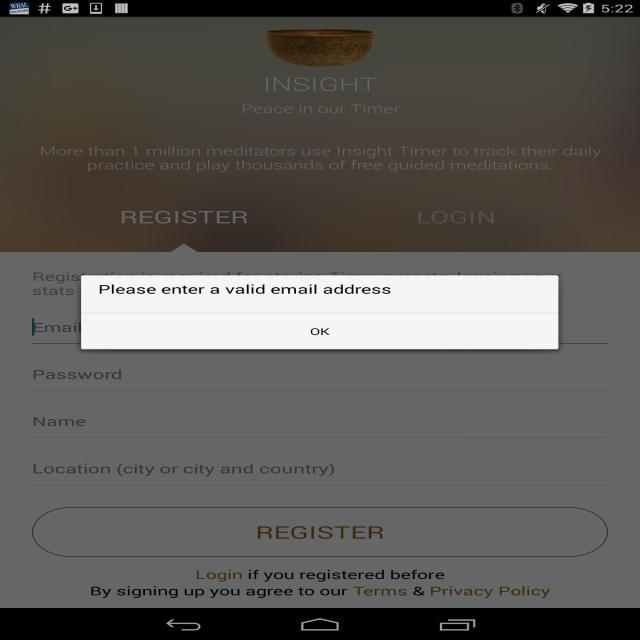button: (30, 504, 612, 557), (85, 314, 557, 350), (44, 200, 312, 248), (344, 199, 579, 250)
field: (28, 353, 610, 390), (24, 448, 610, 484), (29, 401, 608, 436)
heading: (238, 98, 400, 119), (261, 74, 377, 95)
image: (0, 16, 640, 250), (264, 24, 373, 66)
label: (29, 460, 337, 480), (30, 365, 127, 384), (31, 414, 87, 432)
link: (348, 580, 557, 600), (190, 568, 247, 583)
text: (34, 143, 605, 176), (80, 568, 573, 600), (100, 283, 392, 299)
